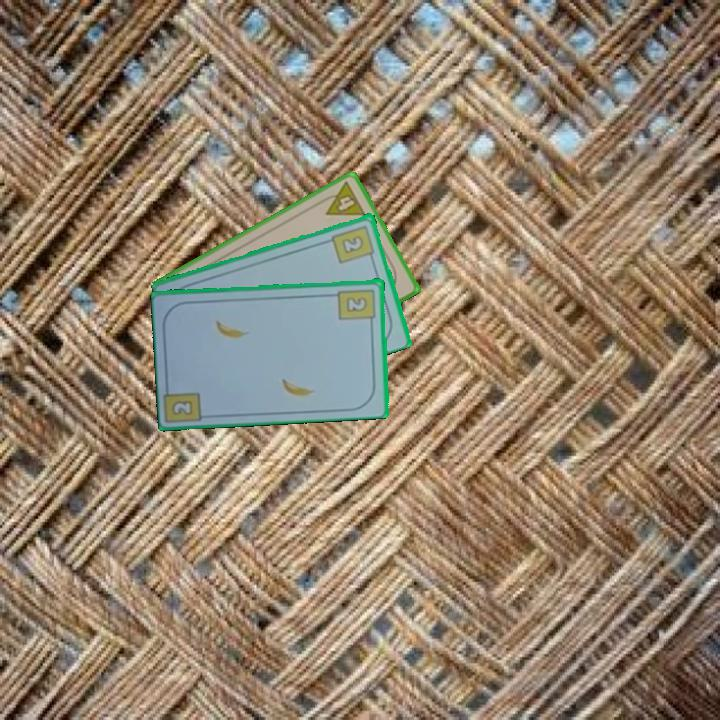2b: (329, 221, 378, 266), (335, 285, 379, 327), (168, 397, 196, 418)
4p: (316, 178, 369, 219)
